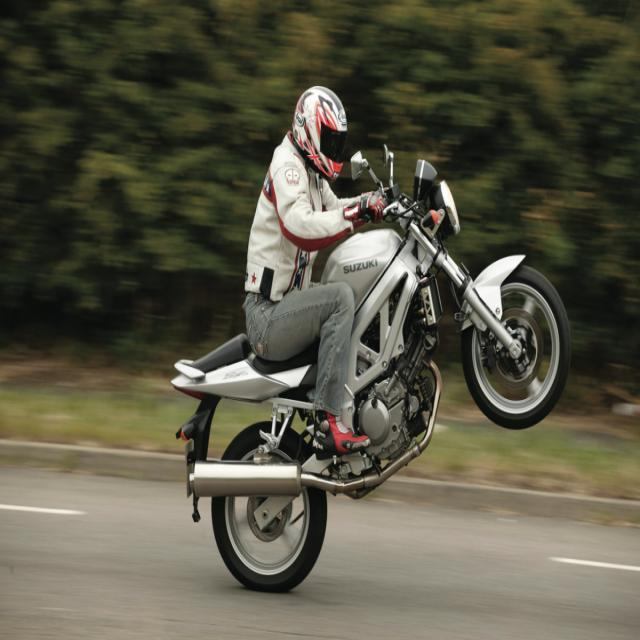Wheeling: (240, 98, 567, 532)
